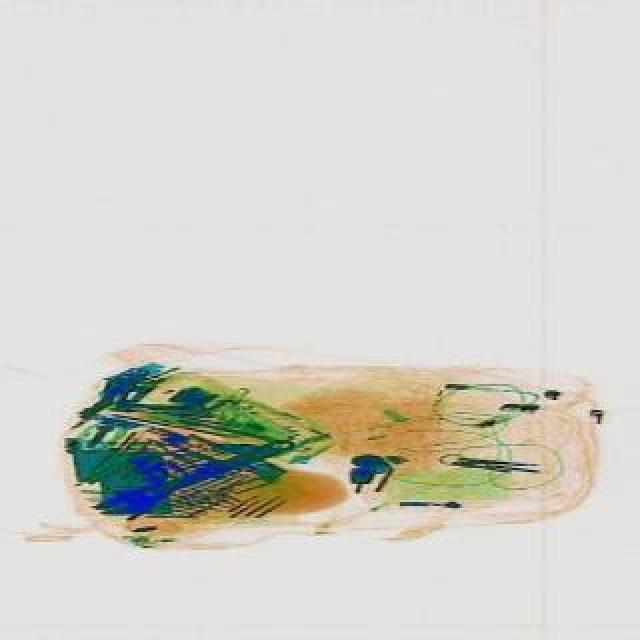scissors: (88, 428, 296, 528)
